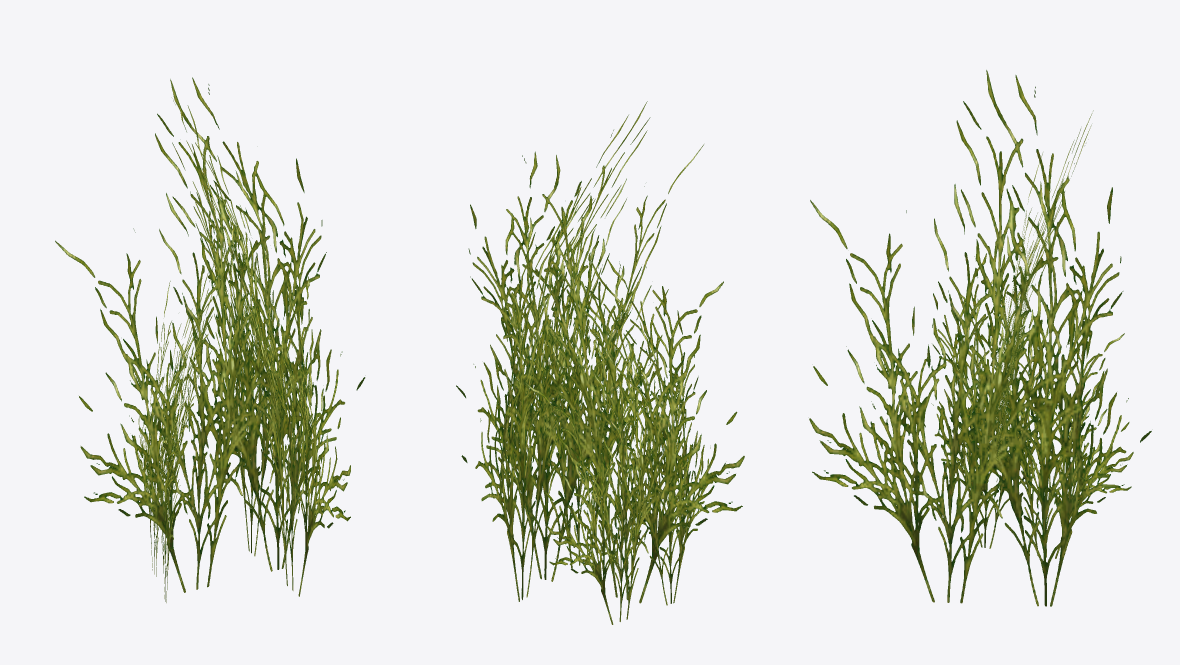
File: grs_weed04.static.glb
The picture shows the model from 3 angles, left to right: view 1: azimuth 30°, elevation 25°; view 2: azimuth 150°, elevation 25°; view 3: azimuth 270°, elevation 25°; orthographic projection.
Parts seen in each view (by area): view 1: grs_weed04; view 2: grs_weed04; view 3: grs_weed04.
Part boxes in pixels (x1,y1,x2,y2): grs_weed04: (55, 77, 365, 602); grs_weed04: (456, 101, 744, 624); grs_weed04: (809, 70, 1151, 606).
Bounding box in the file's own units: 2.28 × 3.74 × 2.45.
1 material, 1 textured.
